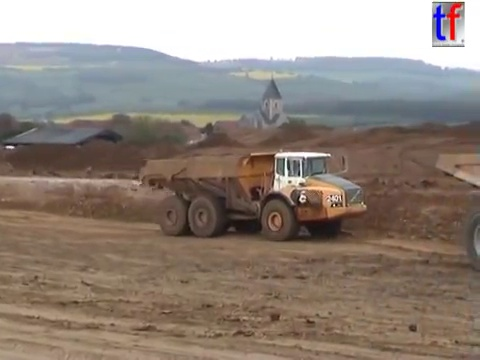truck: (136, 148, 368, 242), (432, 150, 480, 276)
